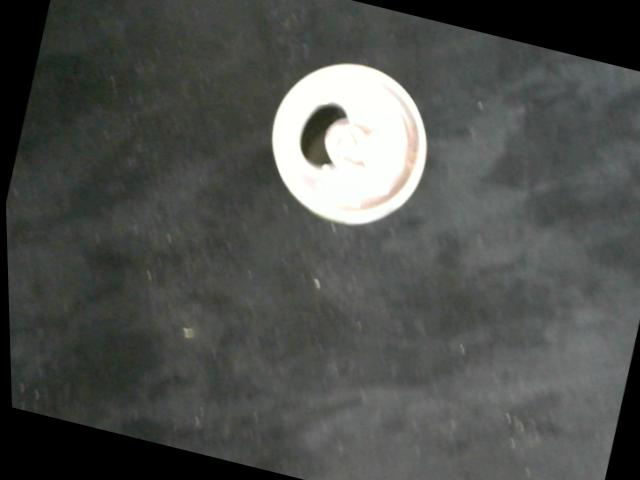can: (250, 46, 447, 242)
